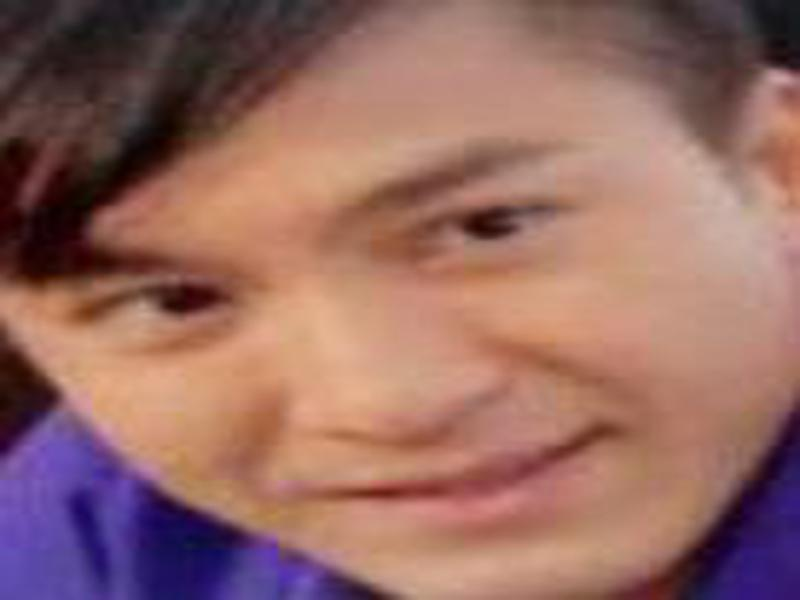without_mask: (2, 91, 791, 595)
